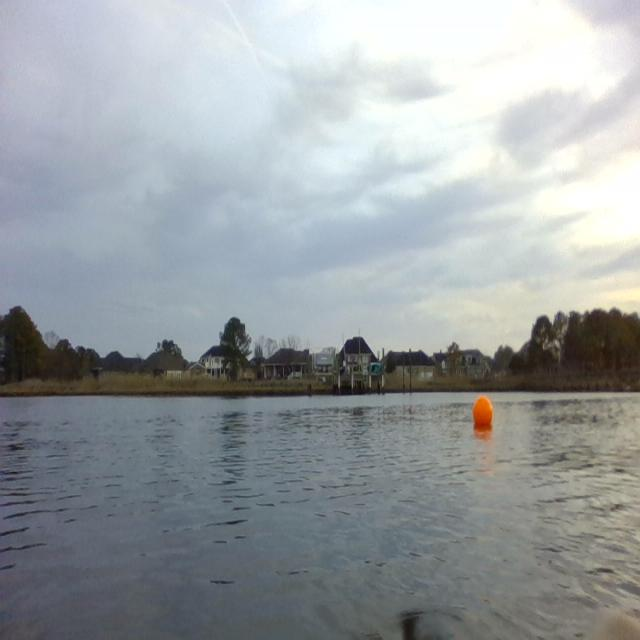Buoy: (471, 391, 495, 432)
